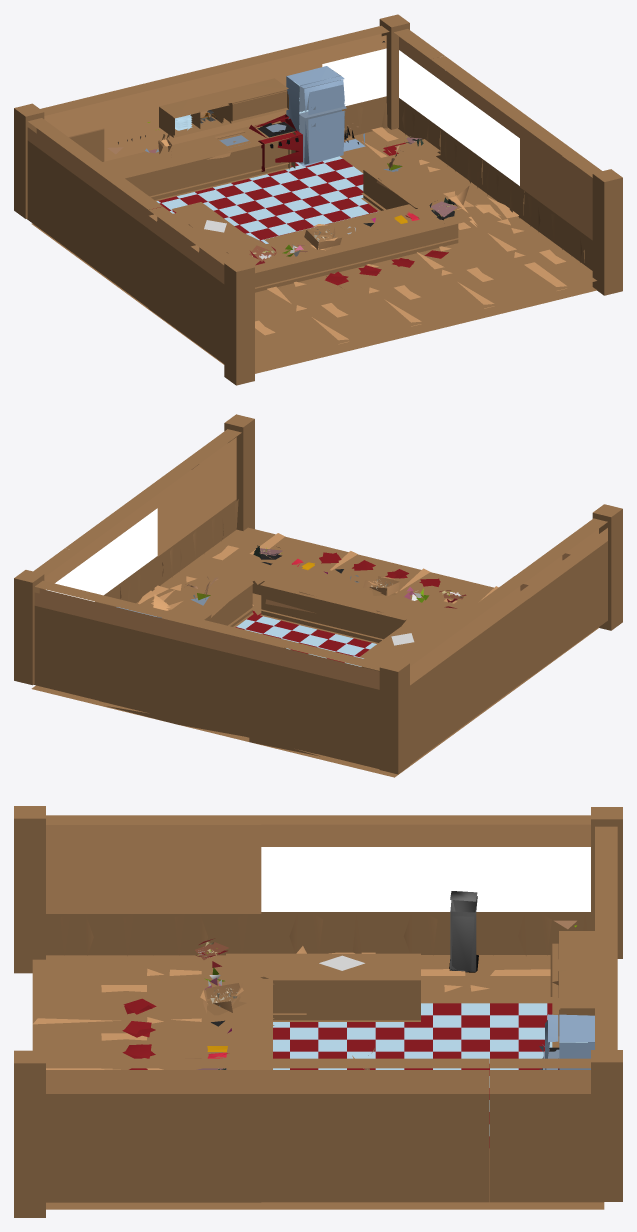
The model's file is testingcol.glb.
3 views of the same model, one above another, from view 1: azimuth 30°, elevation 25°; view 2: azimuth 150°, elevation 25°; view 3: azimuth 270°, elevation 25° (orthographic). The views are drawn at different scales.
Visible parts, largest first — view 1: COLLIDER_MAP; view 2: COLLIDER_MAP; view 3: COLLIDER_MAP.
Boxes of the visible parts, <box> form: COLLIDER_MAP: <box>14,14,622,385</box>; COLLIDER_MAP: <box>14,414,622,777</box>; COLLIDER_MAP: <box>14,806,622,1217</box>.
Bounding box in the file's own units: 21.28 × 5.97 × 21.3.
Materials: 4 (1 with a texture image).
